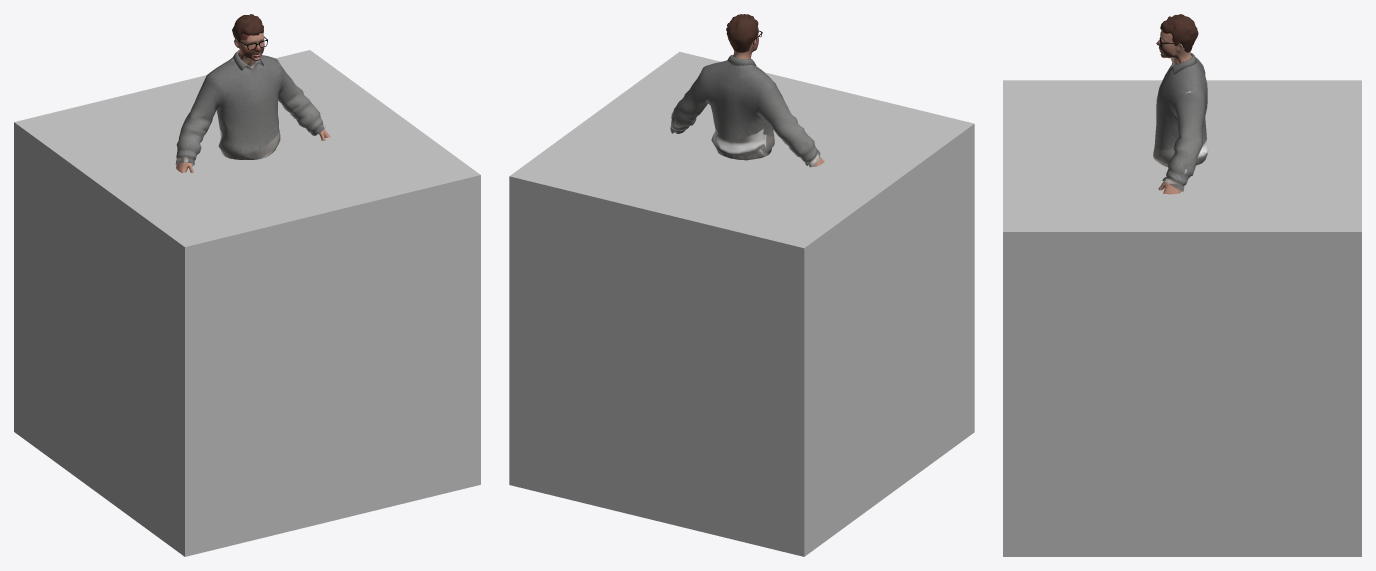
The model's file is lingo.obj.
The picture shows the model from 3 angles, left to right: view 1: azimuth 30°, elevation 25°; view 2: azimuth 150°, elevation 25°; view 3: azimuth 270°, elevation 25°; orthographic projection. The views are drawn at different scales.
Parts seen in each view (by area): view 1: Cube, Wolf3D_Outfit_Top, Wolf3D_Head, Wolf3D_Hair; view 2: Cube, Wolf3D_Outfit_Top, Wolf3D_Hair; view 3: Cube, Wolf3D_Outfit_Top, Wolf3D_Hair, Wolf3D_Head.
Part boxes in pixels (x1,y1,x2,y2): Cube: (14, 50, 480, 556); Wolf3D_Outfit_Top: (175, 50, 325, 165); Wolf3D_Head: (234, 33, 264, 67); Wolf3D_Hair: (232, 14, 263, 43); Cube: (509, 51, 974, 556); Wolf3D_Outfit_Top: (670, 55, 820, 167); Wolf3D_Hair: (726, 14, 758, 52); Cube: (1003, 80, 1361, 556); Wolf3D_Outfit_Top: (1153, 53, 1208, 191); Wolf3D_Hair: (1160, 14, 1198, 52); Wolf3D_Head: (1156, 30, 1191, 65).
Bounding box in the file's own units: 2 × 2.86 × 2.
